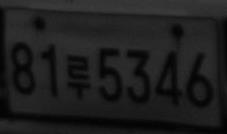1: (37, 43, 64, 98)
3: (125, 47, 153, 104)
4: (154, 49, 182, 107)
5: (96, 46, 123, 102)
6: (184, 51, 214, 110)
8: (10, 40, 36, 96)
루: (65, 53, 92, 100)
